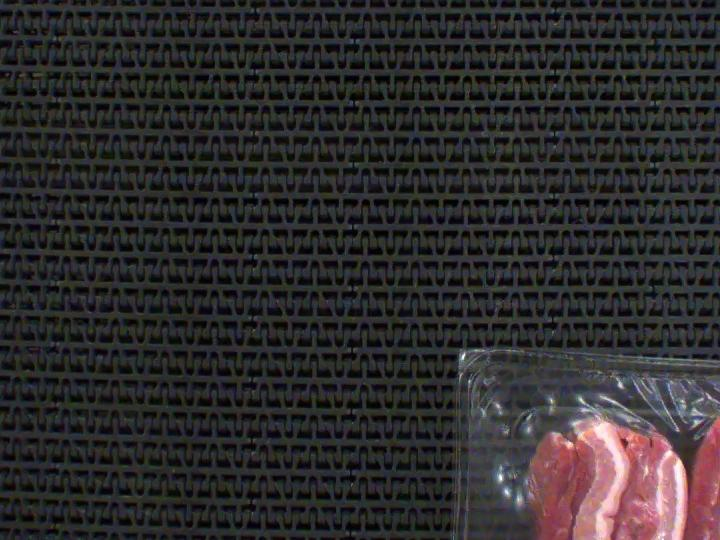unsealed: (477, 348, 720, 540)
